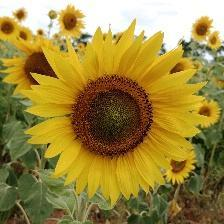sunflower: (40, 36, 202, 196), (2, 43, 65, 95), (163, 146, 198, 187), (163, 50, 198, 83), (60, 5, 87, 40), (194, 97, 222, 129), (1, 16, 22, 44), (191, 15, 211, 38), (18, 25, 33, 46), (209, 30, 222, 52), (13, 8, 30, 24), (77, 42, 87, 55), (48, 9, 59, 20), (37, 29, 47, 39)
